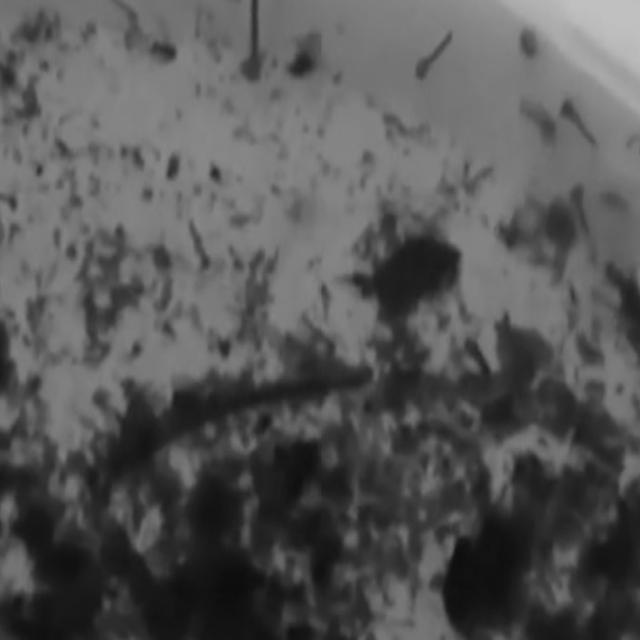larvas: (240, 0, 261, 80), (416, 29, 451, 76), (561, 103, 597, 145), (523, 101, 555, 143), (571, 185, 591, 245), (388, 114, 424, 140), (465, 159, 490, 193), (520, 33, 539, 59)
